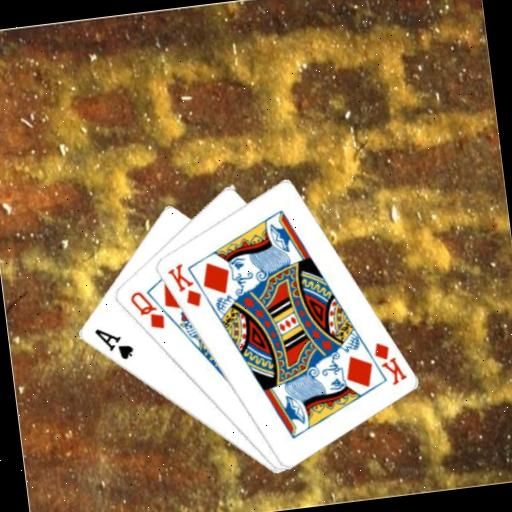AS: (90, 322, 135, 366)
KD: (163, 258, 204, 312), (369, 336, 410, 389)
QD: (125, 285, 167, 335)
